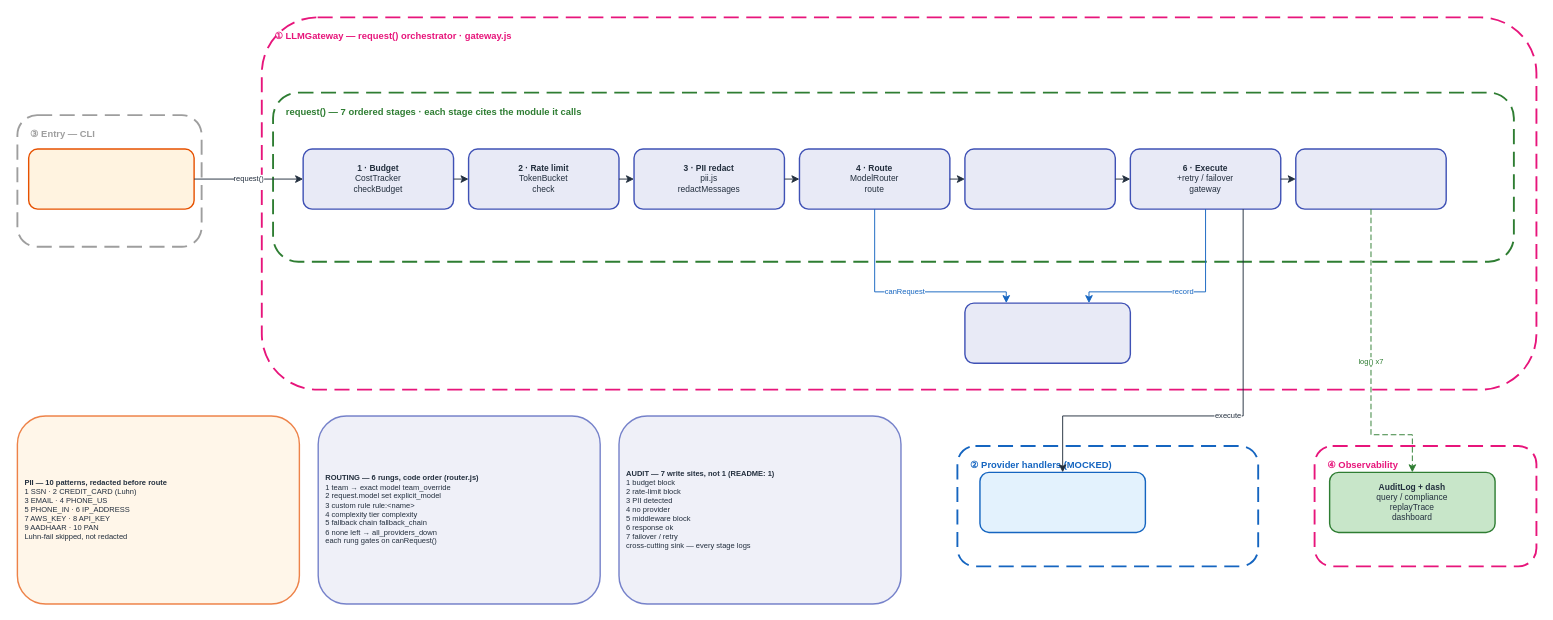
This 1553x620 diagram has some shape labels left out. The shapes that lost their labels are listed below. From the top down, each one's centre as x and y in pixels, then its label:
[111,178]: demo.js CLI · 6 scenarios main
[1040,178]: 5 · Middleware use() chain (empty by default)
[1370,178]: 7 · Track cost record + audit gateway
[1047,333]: CircuitBreaker per-provider gate closed / open / half circuitBreaker.js
[1062,502]: Provider handlers anthropic · openai · google — MOCK demo.js
